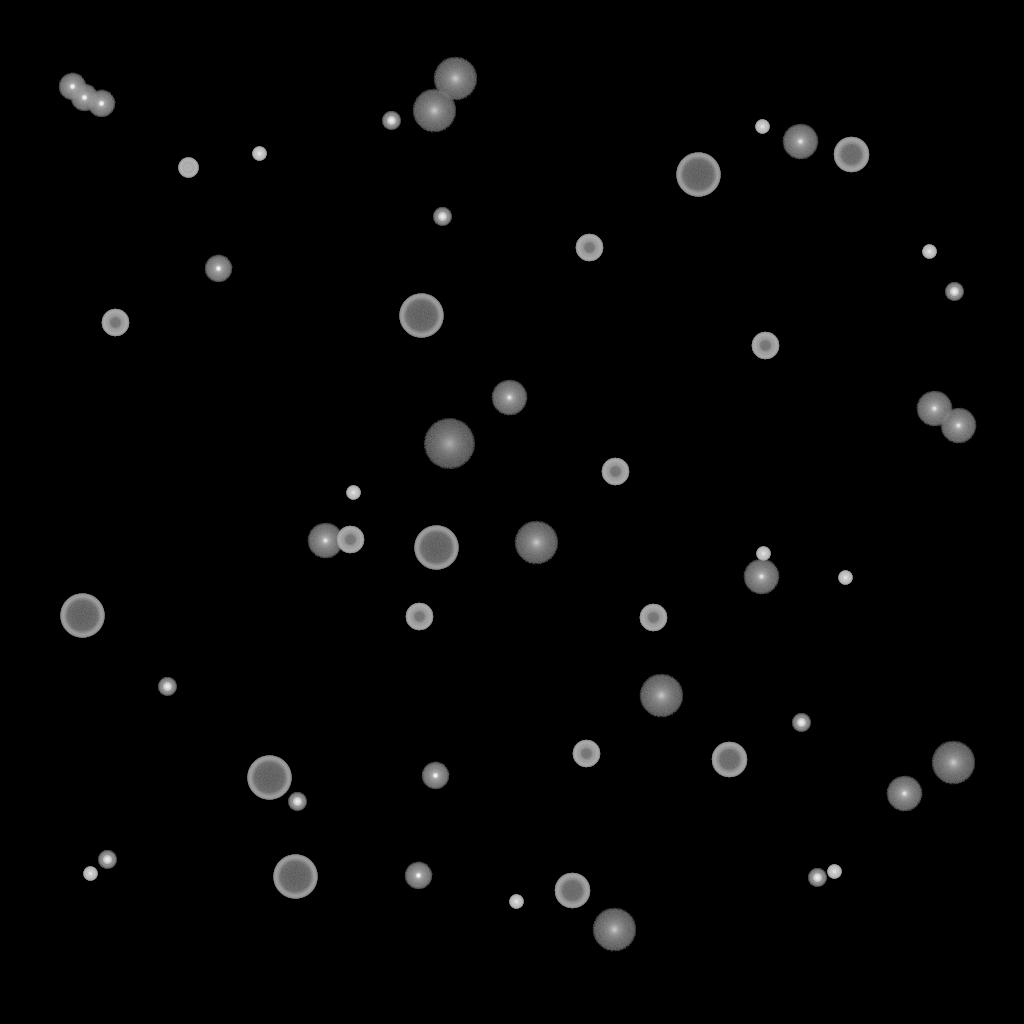depth:-10: (87, 90, 115, 118), (421, 762, 449, 790), (204, 255, 232, 283), (70, 84, 98, 112), (58, 73, 86, 101), (404, 862, 432, 890)
depth:-20: (433, 208, 451, 226), (288, 793, 306, 811), (382, 112, 400, 130), (158, 678, 176, 696), (808, 869, 826, 887), (792, 714, 810, 732), (98, 851, 116, 869), (945, 283, 963, 301)
depth:-30: (252, 147, 266, 161), (509, 895, 523, 909), (346, 486, 360, 500), (922, 245, 936, 259), (83, 867, 97, 881), (838, 571, 852, 585), (827, 865, 841, 879), (756, 547, 770, 561), (755, 120, 769, 134)
depth:-40: (178, 158, 198, 178)
depth:-50: (601, 458, 629, 486), (101, 309, 129, 337), (336, 526, 364, 554), (751, 332, 779, 360), (575, 234, 603, 262), (405, 603, 433, 631), (572, 740, 600, 768), (639, 604, 667, 632)
depth:-60: (833, 137, 869, 173), (554, 873, 590, 909), (711, 742, 747, 778)
depth:-70: (273, 855, 317, 899), (247, 756, 291, 800), (60, 594, 104, 638), (414, 526, 458, 570), (399, 294, 443, 338), (676, 153, 720, 197)
depth:0: (743, 559, 779, 595), (491, 380, 527, 416), (916, 391, 952, 427), (886, 776, 922, 812), (940, 408, 976, 444), (782, 124, 818, 160), (307, 523, 343, 559)
depth:10: (639, 674, 683, 718), (931, 741, 975, 785), (412, 89, 456, 133), (592, 908, 636, 952), (433, 57, 477, 101), (514, 521, 558, 565)
depth:20: (423, 419, 475, 469)
